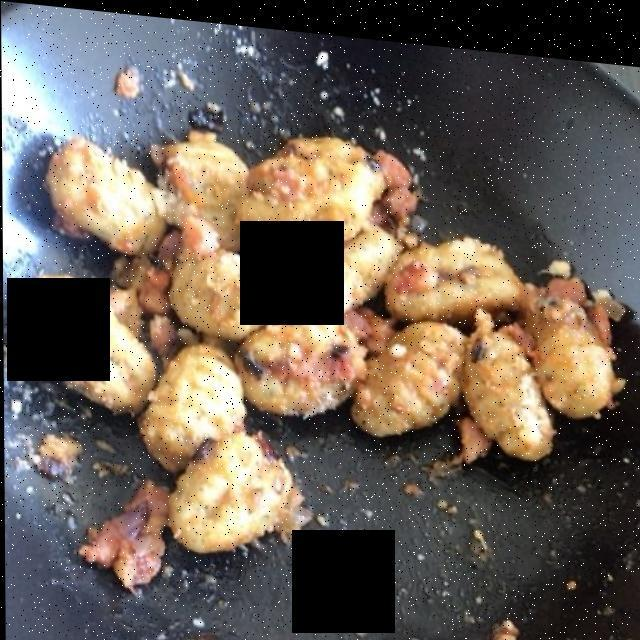gnocchi: (31, 122, 622, 514)
